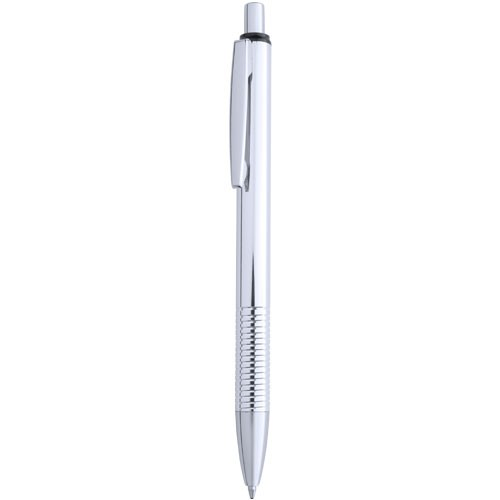Boligrafo: (226, 1, 274, 500)
